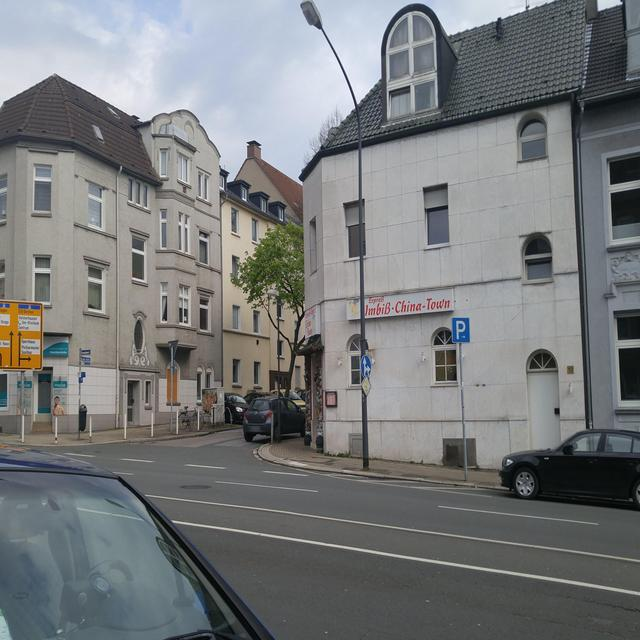Bicycle: (179, 405, 197, 429)
Billboard: (17, 336, 68, 414), (347, 287, 452, 318), (305, 305, 319, 338), (0, 371, 8, 410)
Car: (0, 445, 274, 639), (498, 428, 639, 511), (224, 389, 305, 441), (225, 409, 230, 423)
Manhole: (181, 485, 210, 488)
Trash Can: (79, 404, 86, 431)
Vegetation: (229, 218, 304, 397)
